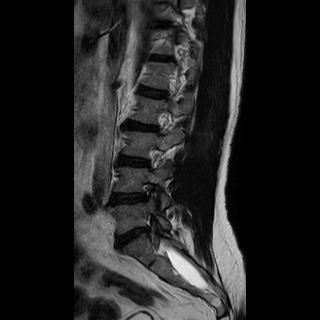RFS3: (136, 176, 164, 208)
